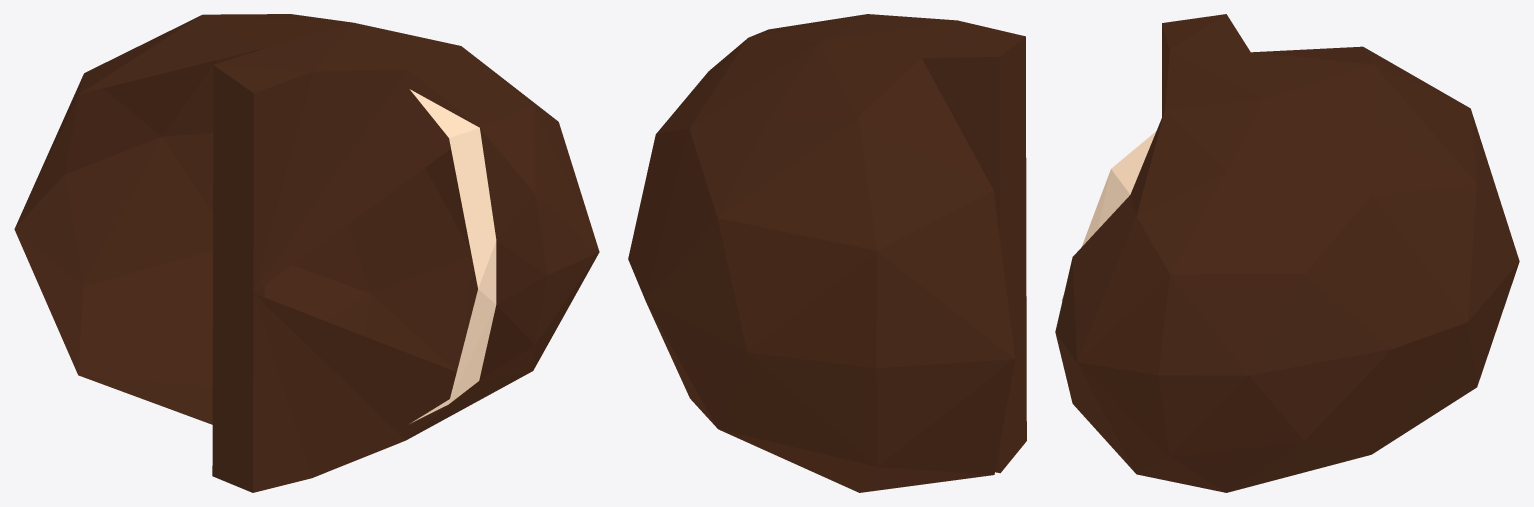
Rendered from hair29.glb.
3 renders of one model, left to right at view 1: azimuth 30°, elevation 25°; view 2: azimuth 150°, elevation 25°; view 3: azimuth 270°, elevation 25°, orthographic. The views are drawn at different scales.
Parts seen in each view (by area): view 1: tomodachi-2026-03-17-09-08-06-756, tomodachi-2026-03-17-09-08-06-756.008; view 2: tomodachi-2026-03-17-09-08-06-756; view 3: tomodachi-2026-03-17-09-08-06-756, tomodachi-2026-03-17-09-08-06-756.008.
Part boxes in pixels (x1=…): tomodachi-2026-03-17-09-08-06-756: x1=14, y1=14, x2=599, y2=492; tomodachi-2026-03-17-09-08-06-756.008: x1=410, y1=89, x2=496, y2=423; tomodachi-2026-03-17-09-08-06-756: x1=628, y1=14, x2=1026, y2=492; tomodachi-2026-03-17-09-08-06-756: x1=1055, y1=14, x2=1519, y2=492; tomodachi-2026-03-17-09-08-06-756.008: x1=1061, y1=131, x2=1156, y2=301.
Size of the model in its own units: 1.22 by 1.08 by 1.14.
Materials: 2 (2 with a texture image).
